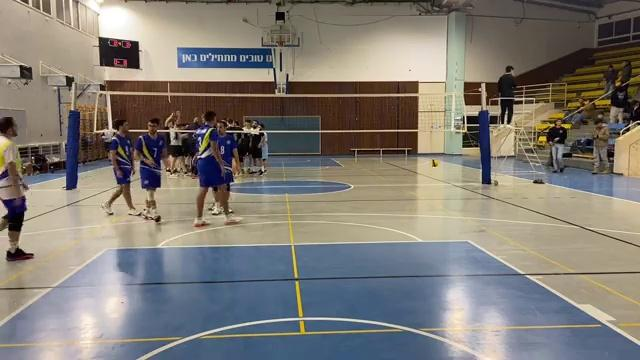ball: (429, 159, 443, 171)
